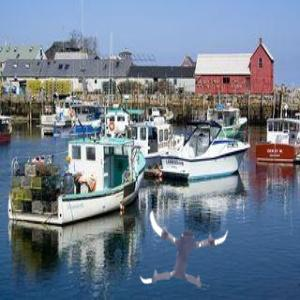drone: (139, 201, 232, 294)
